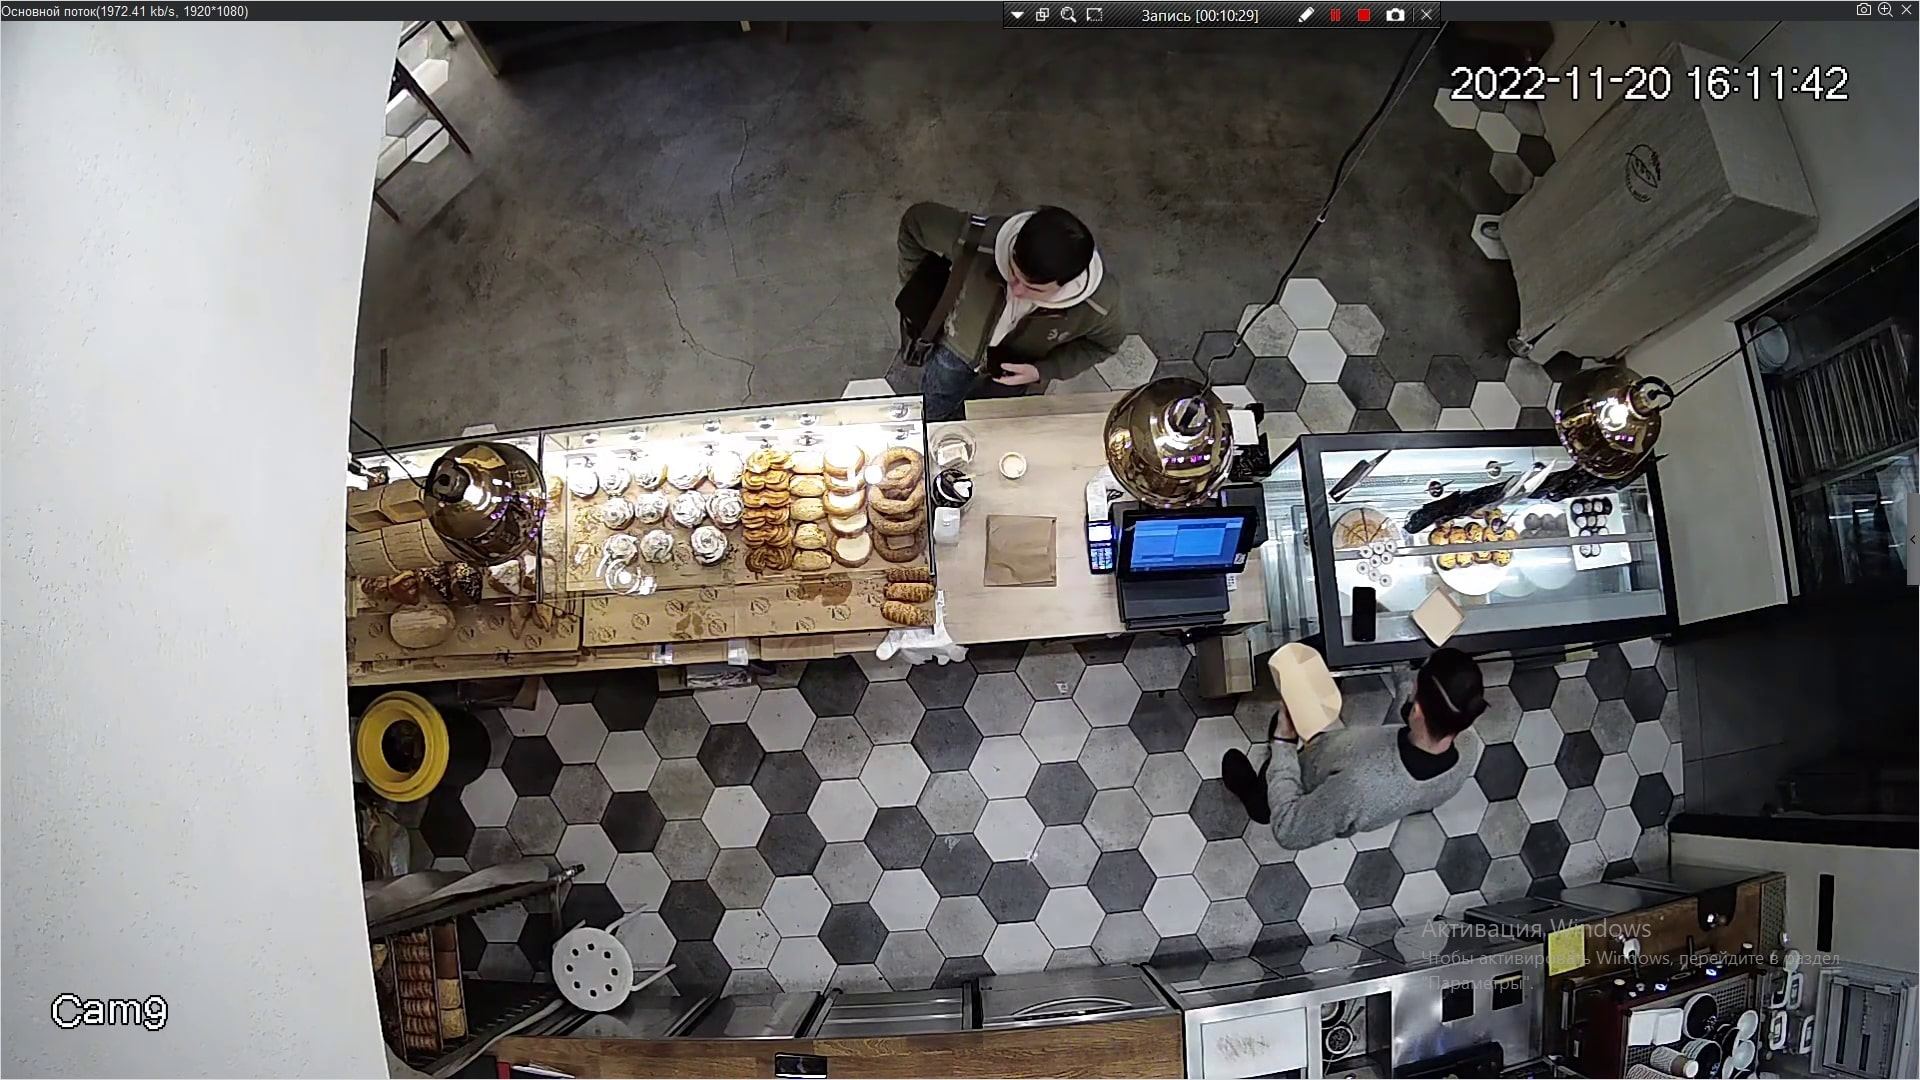coffee: (1002, 452, 1034, 482)
pack: (1268, 643, 1355, 741), (980, 511, 1064, 591)
person: (874, 191, 1107, 390)
